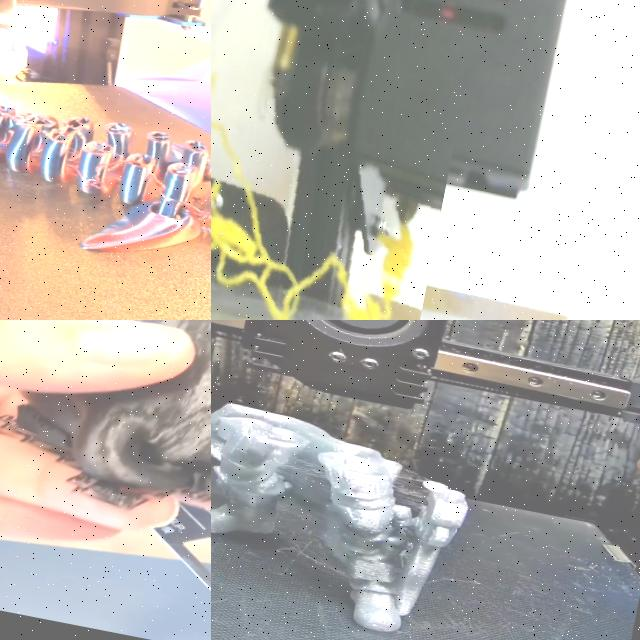spaghetti: (211, 120, 412, 320)
